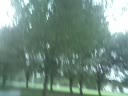window: (1, 31, 34, 48), (1, 72, 14, 96), (67, 0, 80, 24)
